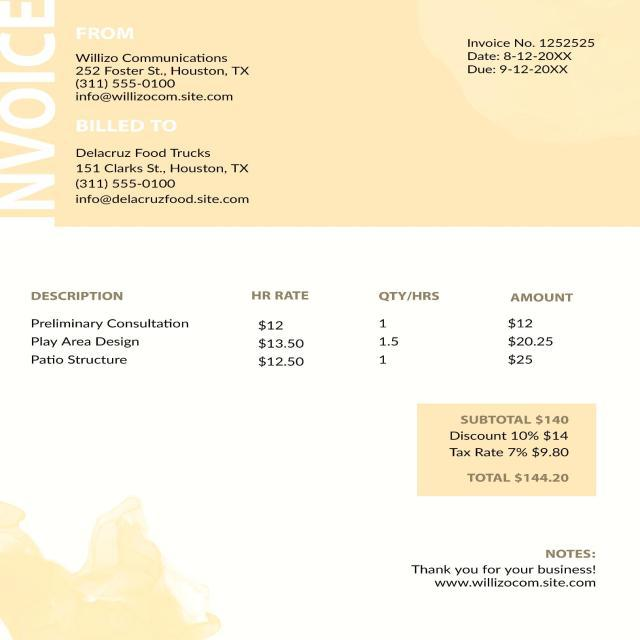ROI: (25, 290, 578, 376), (70, 120, 262, 204), (72, 25, 260, 107), (441, 412, 582, 487), (408, 544, 602, 596), (458, 30, 596, 80)
